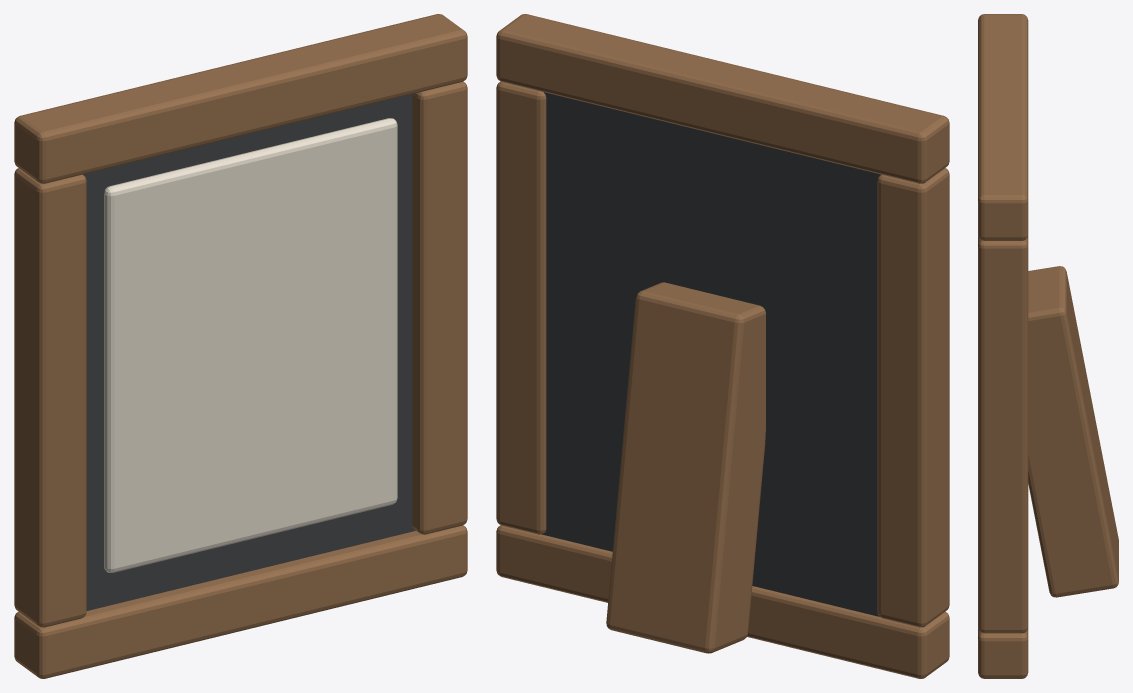
The model's file is minimal-photo-frame-01.glb.
3 views of the same model, side by side, from view 1: azimuth 30°, elevation 25°; view 2: azimuth 150°, elevation 25°; view 3: azimuth 270°, elevation 25° (orthographic). The views are drawn at different scales.
Parts seen in each view (by area): view 1: minimal-photo-frame-01; view 2: minimal-photo-frame-01; view 3: minimal-photo-frame-01.
Part boxes in pixels (x1,y1,x2,y2): minimal-photo-frame-01: (14, 14, 467, 678); minimal-photo-frame-01: (496, 14, 949, 678); minimal-photo-frame-01: (978, 14, 1118, 678).
Bounding box in the file's own units: 0.28 × 0.34 × 0.0898.
